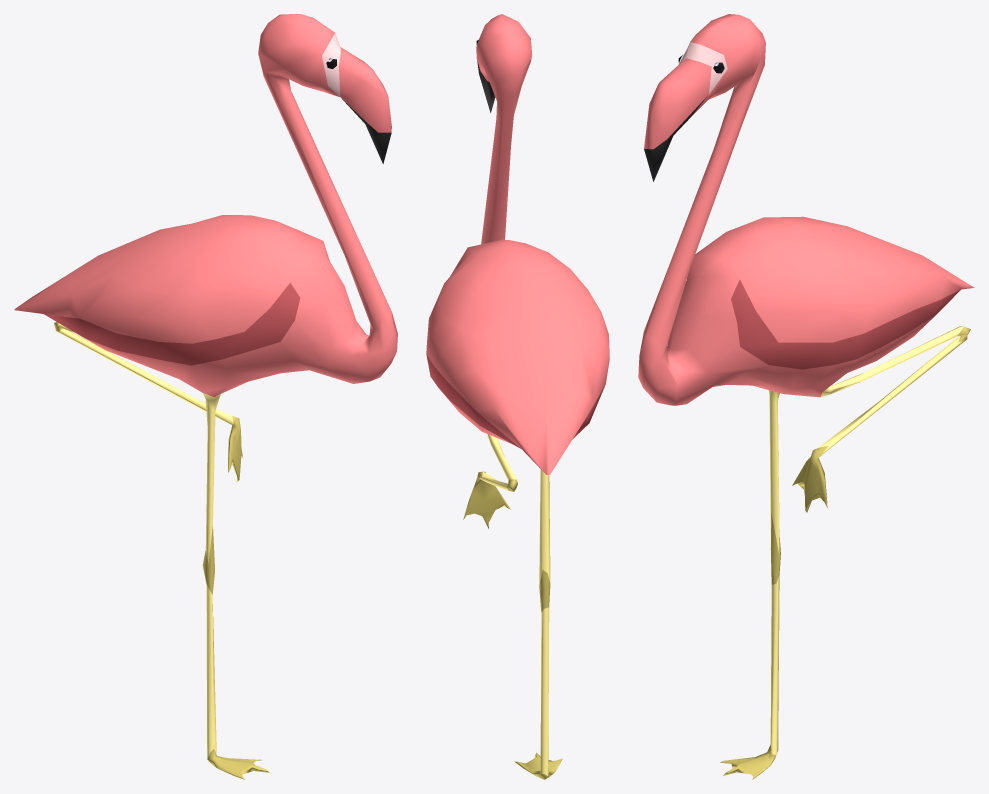
File: Flamingo01.glb
3 renders of one model, left to right at view 1: azimuth 30°, elevation 25°; view 2: azimuth 150°, elevation 25°; view 3: azimuth 270°, elevation 25°, orthographic. The views are drawn at different scales.
Visible parts, largest first — view 1: Flamingo01; view 2: Flamingo01; view 3: Flamingo01.
Boxes of the visible parts, x1,y1,x2,y2 form: Flamingo01: (14, 14, 397, 779); Flamingo01: (426, 14, 609, 779); Flamingo01: (638, 14, 974, 779).
Size of what is drawn, in the model's own units: 0.6276 by 1.97 by 0.7738.
Materials: 1 (1 with a texture image).
